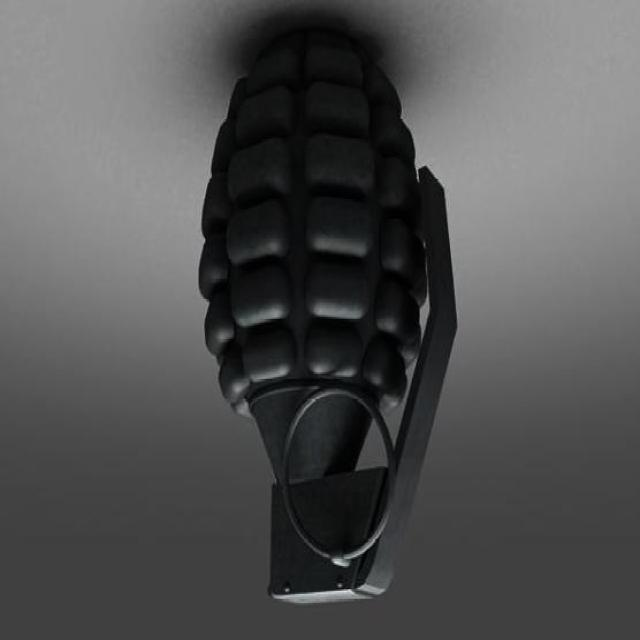grenade: (199, 28, 459, 604)
